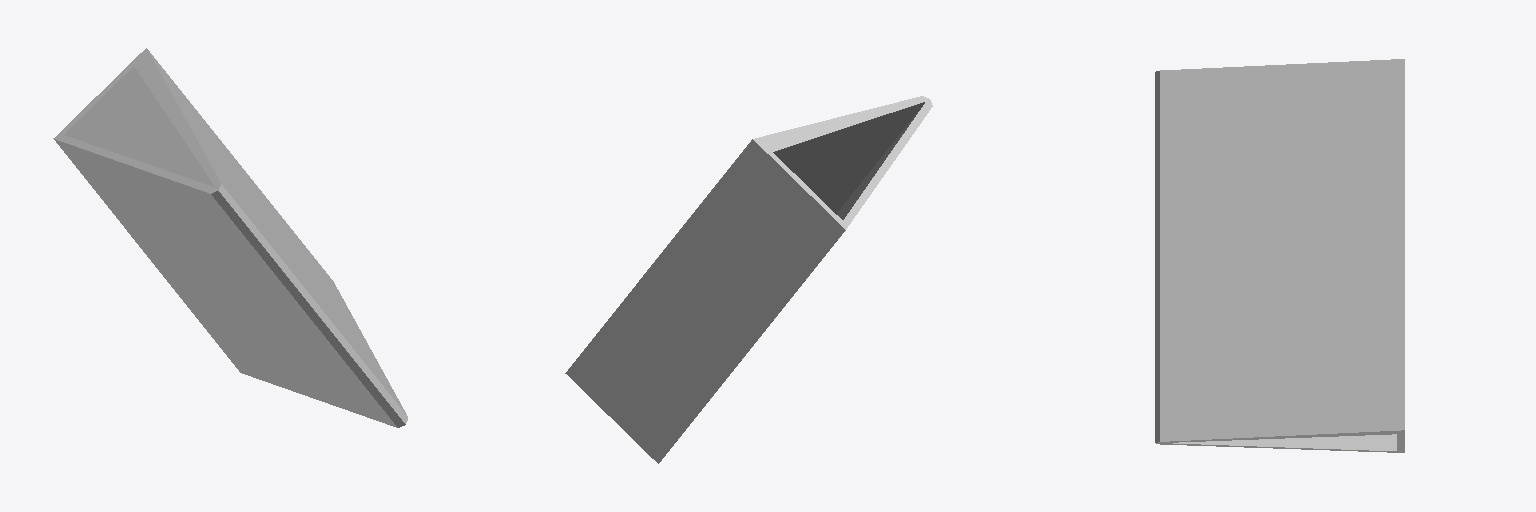
The model's file is calendar.obj.
3 renders of one model, left to right at view 1: azimuth 30°, elevation 25°; view 2: azimuth 150°, elevation 25°; view 3: azimuth 270°, elevation 25°, orthographic.
Visible parts, largest first — view 1: clutter_desk; view 2: clutter_desk; view 3: clutter_desk.
Part boxes in pixels (left/top/right/bottom): clutter_desk: left=53, top=48, right=407, bottom=427; clutter_desk: left=565, top=96, right=932, bottom=463; clutter_desk: left=1155, top=59, right=1404, bottom=452.
Bounding box in the file's own units: 14.16 × 16.8 × 10.91.